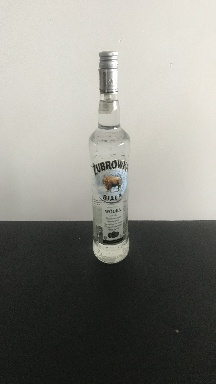butelka: (87, 47, 131, 266)
